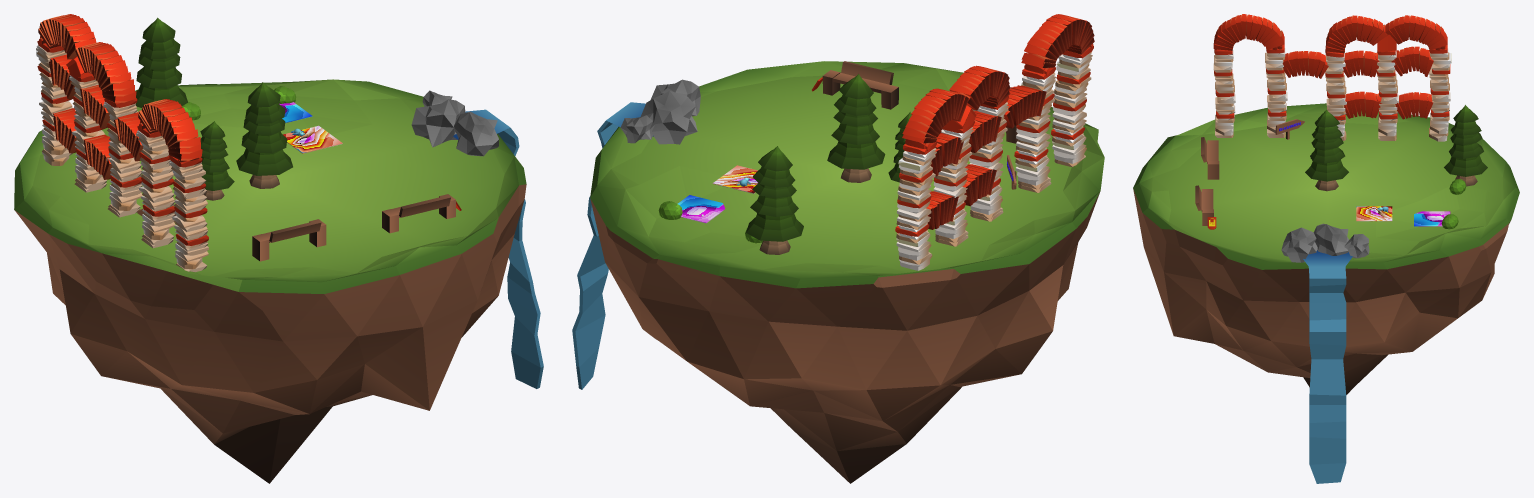
File: Isla.glb
The picture shows the model from 3 angles, left to right: view 1: azimuth 30°, elevation 25°; view 2: azimuth 150°, elevation 25°; view 3: azimuth 270°, elevation 25°; orthographic projection. The views are drawn at different scales.
Parts seen in each view (by area): view 1: Isla, Agua, Arbol, Arbol.002, Arbol.003, Roca 3, Roca 2, Cube.116, Cube.115, Cube.111; view 2: Isla, Agua, Arbol, Arbol.002, Roca 3, Cube.107, Cube.116, Roca 1, Roca 2, Cube.111; view 3: Isla, Agua, Arbol, Arbol.002, Roca 2, Roca 3, Cube.116, Cube.107, Roca 1.
Boxes of the visible parts, x1,y1,x2,y2 form: Isla: [14, 79, 526, 483]; Agua: [453, 109, 543, 388]; Arbol: [236, 82, 292, 188]; Arbol.002: [136, 17, 187, 107]; Arbol.003: [200, 121, 234, 200]; Roca 3: [411, 99, 465, 147]; Roca 2: [454, 111, 499, 156]; Cube.116: [283, 125, 342, 153]; Cube.115: [269, 220, 321, 242]; Cube.111: [399, 195, 450, 217]; Isla: [590, 61, 1104, 483]; Agua: [572, 102, 653, 389]; Arbol: [827, 74, 885, 182]; Arbol.002: [746, 146, 803, 254]; Roca 3: [640, 91, 697, 144]; Cube.107: [677, 195, 725, 223]; Cube.116: [712, 165, 757, 193]; Roca 1: [620, 115, 654, 143]; Roca 2: [650, 79, 700, 116]; Cube.111: [841, 61, 893, 84]; Isla: [1133, 103, 1519, 394]; Agua: [1303, 250, 1352, 483]; Arbol: [1305, 109, 1348, 191]; Arbol.002: [1444, 105, 1487, 186]; Roca 2: [1281, 227, 1317, 262]; Roca 3: [1313, 223, 1348, 255]; Cube.116: [1356, 206, 1392, 221]; Cube.107: [1414, 211, 1450, 226]; Roca 1: [1344, 234, 1369, 258].
Size of what is drawn, in the model's own units: 22.85 by 20.64 by 21.03.
3 materials, 1 textured.
